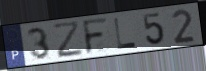2: (169, 8, 197, 46)
3: (27, 25, 52, 60)
5: (142, 11, 166, 47)
F: (81, 17, 110, 57)
L: (113, 17, 139, 51)
Z: (51, 20, 86, 60)
